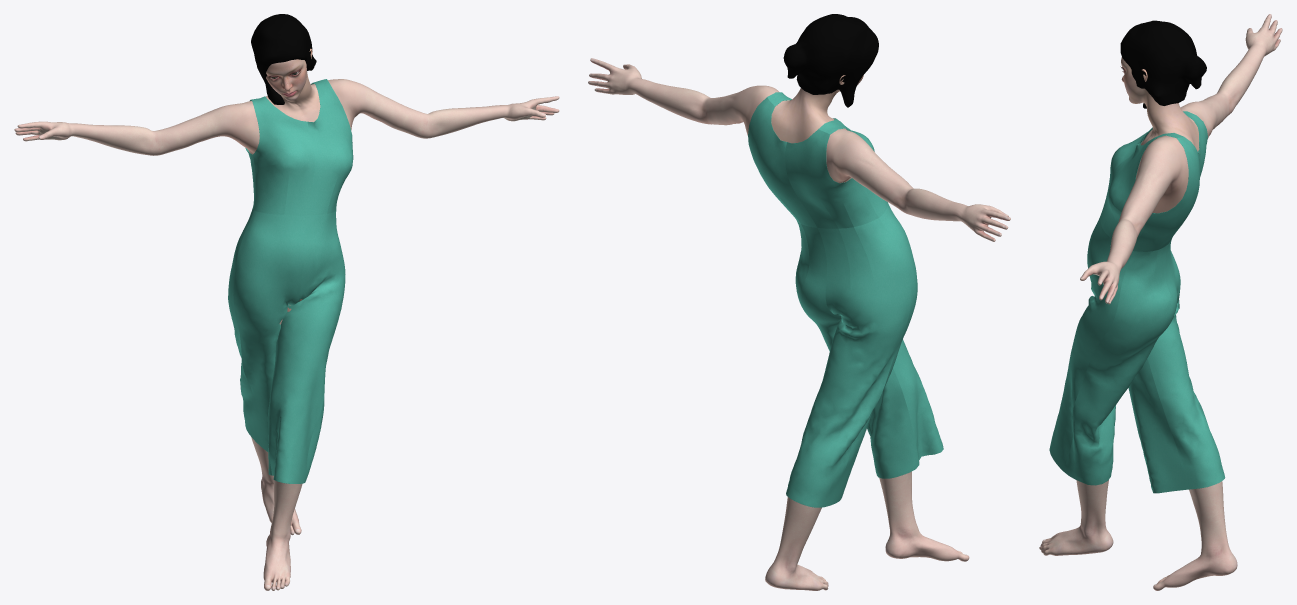
The model's file is random.obj.
3 views of the same model, side by side, from view 1: azimuth 30°, elevation 25°; view 2: azimuth 150°, elevation 25°; view 3: azimuth 270°, elevation 25° (orthographic). The views are drawn at different scales.
Bounding box in the file's own units: 1601 × 1717 × 679.
